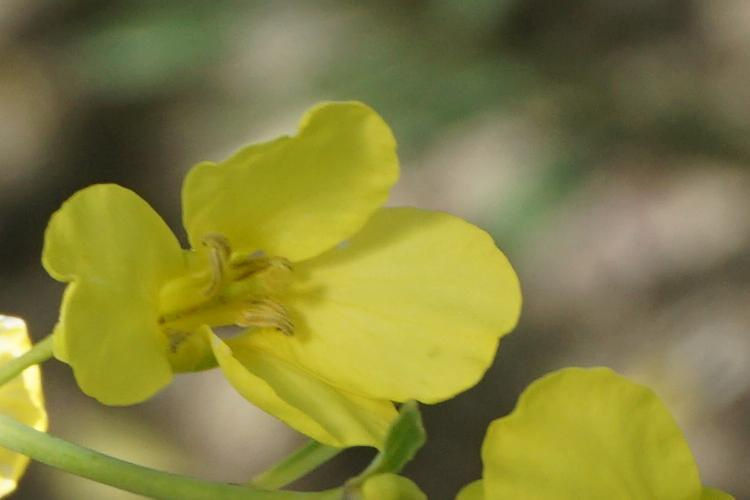yellow: (43, 125, 528, 448), (466, 373, 708, 500)
